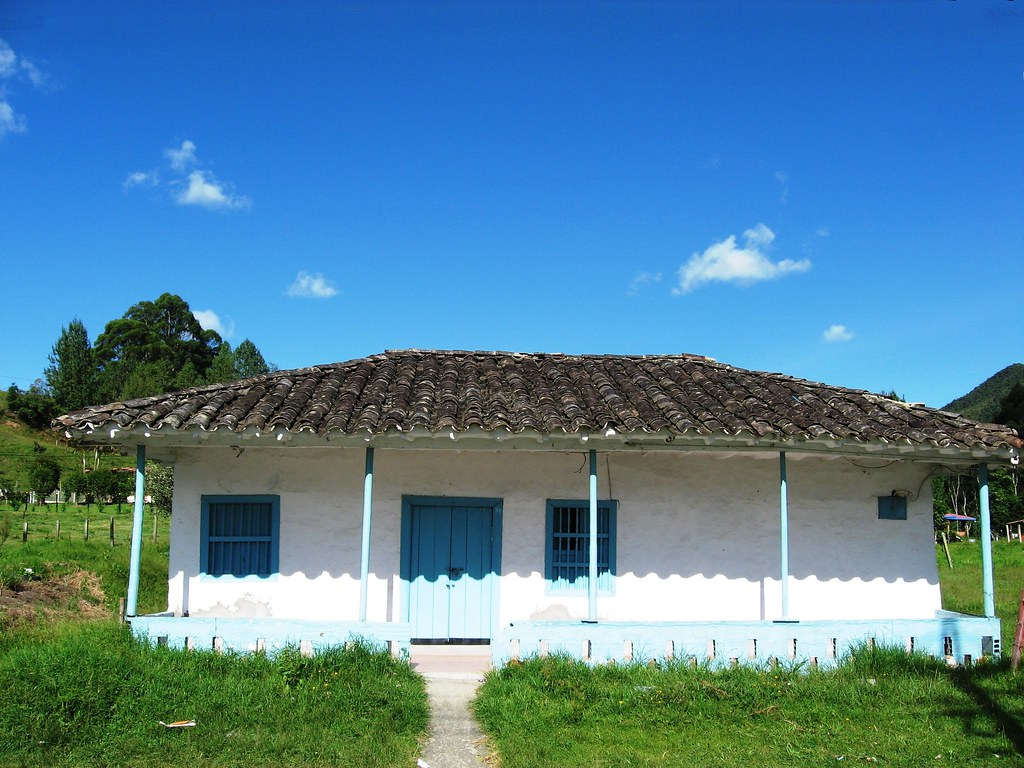House: (69, 285, 1005, 670)
